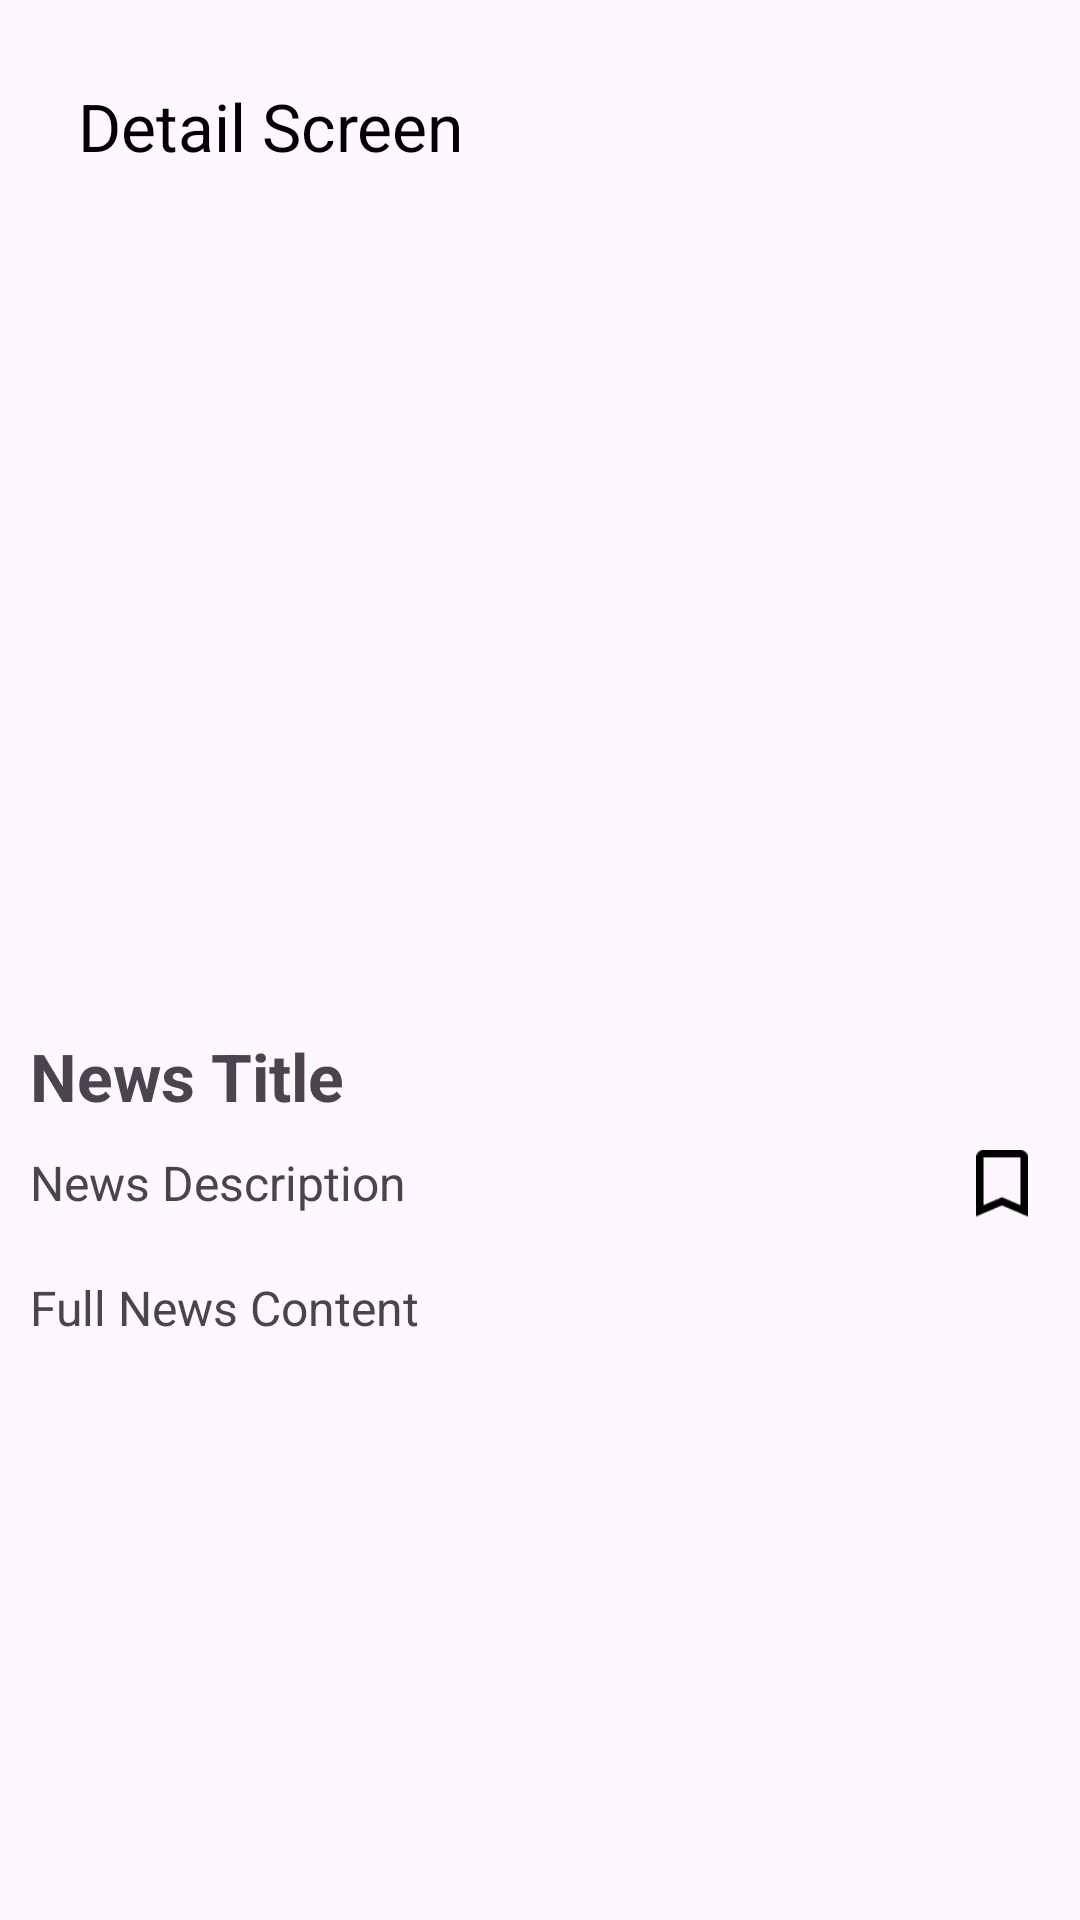

Icon bounding boxes for this 1080w x 1920h phone screenshot, format bbox(x1, y1, x2, y2):
Save News: bbox(976, 1150, 1028, 1217)
